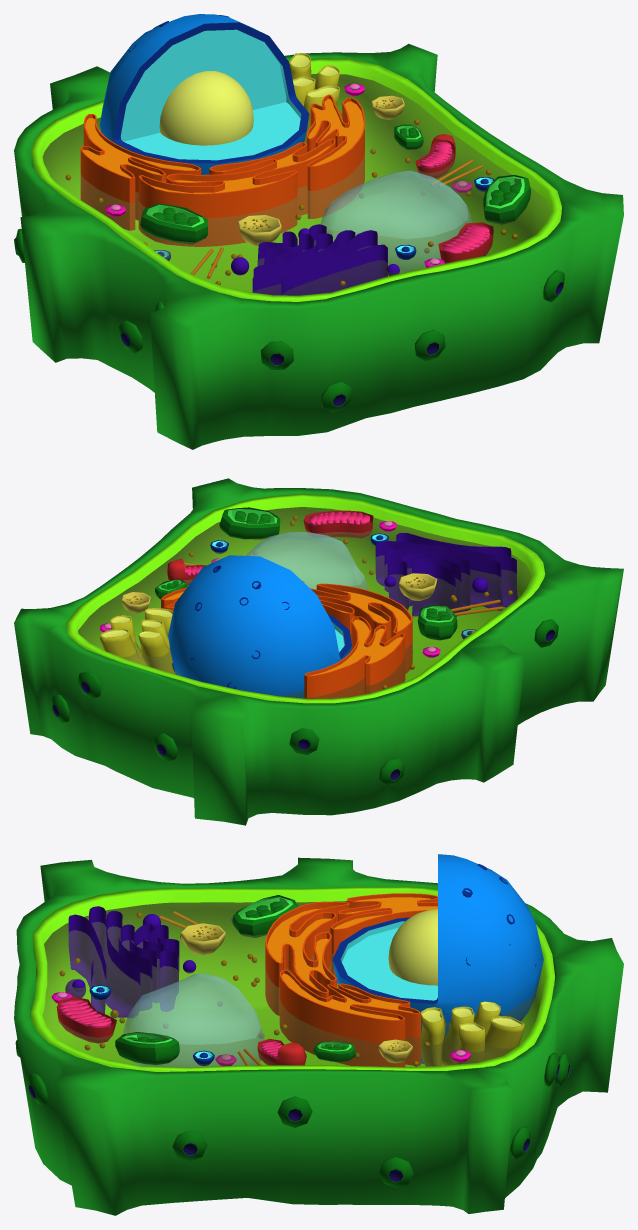
The picture shows the model from 3 angles, top to bottom: view 1: azimuth 30°, elevation 25°; view 2: azimuth 150°, elevation 25°; view 3: azimuth 270°, elevation 25°; orthographic projection. The views are drawn at different scales.
Visible parts, largest first — view 1: Cell Membrane, Cytoplasm, Rough Endoplasmic Reticulum, Nucleus, Vacuole, Golgi Apparatus, Nucleolus, 2., Plasmodesmata, Smooth Endoplasmic Reticulum, Lysosome, 2. vn (+4 smaller); view 2: Cell Membrane, Cytoplasm, Nucleus, Rough Endoplasmic Reticulum, Golgi Apparatus, Vacuole, Smooth Endoplasmic Reticulum, Plasmodesmata, 2., 1.ob, Lysosome, 2. vn (+1 smaller); view 3: Cell Membrane, Cytoplasm, Nucleus, Rough Endoplasmic Reticulum, Golgi Apparatus, Vacuole, Smooth Endoplasmic Reticulum, Plasmodesmata, 2., Nucleolus, 1.ob, Lysosome (+5 smaller).
Boxes of the visible parts, box(x1,y1,x2,y2) form: Cell Membrane: box(14, 44, 623, 449); Cytoplasm: box(31, 58, 561, 301); Rough Endoplasmic Reticulum: box(80, 94, 364, 246); Nucleus: box(100, 14, 309, 174); Vacuole: box(320, 170, 472, 273); Golgi Apparatus: box(231, 224, 399, 295); Nucleolus: box(159, 71, 253, 145); 2.: box(140, 124, 530, 244); Plasmodesmata: box(14, 228, 564, 412); Smooth Endoplasmic Reticulum: box(289, 53, 339, 142); Lysosome: box(238, 95, 404, 246); 2. vn: box(420, 141, 490, 254); Cell Membrane: box(14, 478, 623, 825); Cytoplasm: box(66, 494, 545, 703); Nucleus: box(168, 555, 351, 698); Rough Endoplasmic Reticulum: box(161, 581, 412, 698); Golgi Apparatus: box(375, 533, 517, 616); Vacuole: box(246, 532, 368, 590); Smooth Endoplasmic Reticulum: box(100, 608, 175, 673); Plasmodesmata: box(52, 619, 558, 786); 2.: box(155, 507, 457, 640); 1.ob: box(167, 510, 373, 585); Lysosome: box(121, 573, 437, 613); 2. vn: box(184, 511, 369, 576); Cell Membrane: box(14, 857, 623, 1215); Cytoplasm: box(30, 886, 555, 1071); Nucleus: box(332, 854, 543, 1063); Rough Endoplasmic Reticulum: box(265, 893, 437, 1067); Golgi Apparatus: box(65, 906, 196, 1017); Vacuole: box(123, 973, 264, 1066); Smooth Endoplasmic Reticulum: box(421, 1001, 524, 1066); Plasmodesmata: box(15, 1040, 570, 1188); 2.: box(115, 895, 355, 1065); Nucleolus: box(388, 909, 437, 985); 1.ob: box(56, 996, 306, 1065); Lysosome: box(180, 923, 412, 1063).
Size of the model in its own units: 7.73 by 3.89 by 8.42.
